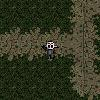Jason: (41, 40, 58, 62)
